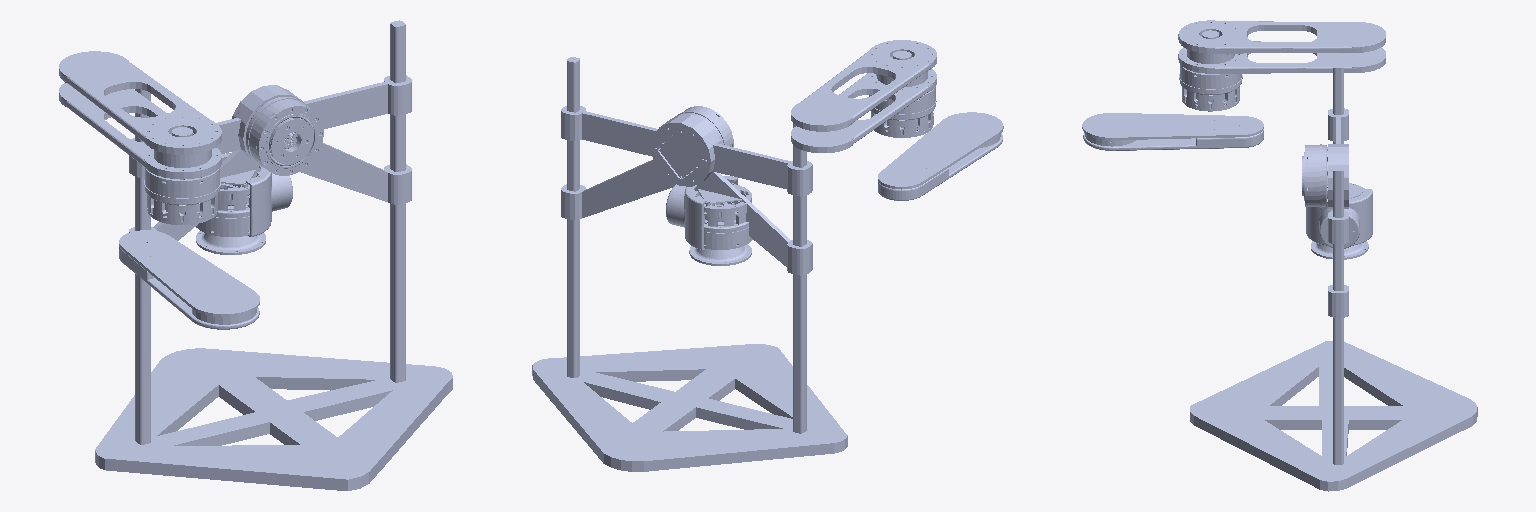
robot.urdf — titanleg:
<?xml version="1.0" encoding="utf-8"?>
<robot
name="titanleg" xmlns:xacro="http://ros.org/wiki/xacro">
<link
  name="world_link"/>
  <link
    name="base_link">
    <inertial>
      <origin
        xyz="0.21336 0.19641 0.47164"
        rpy="0 0 0" />
      <mass
        value="4.5603" />
      <inertia
        ixx="0.18944"
        ixy="-0.0011006"
        ixz="-0.0010776"
        iyy="0.14467"
        iyz="0.0025115"
        izz="0.2416" />
    </inertial>
    <visual>
      <origin
        xyz="0 0 0"
        rpy="0 0 0" />
      <geometry>
        <mesh
          filename="package://my_box_bot_gazebo/meshes/base_link.STL" />
      </geometry>
      <material
        name="">
        <color
          rgba="0.79216 0.81961 0.93333 1" />
      </material>
    </visual>
    <collision>
      <origin
        xyz="0 0 0"
        rpy="0 0 0" />
      <geometry>
        <mesh
          filename="package://my_box_bot_gazebo/meshes/base_link.STL" />
      </geometry>
    </collision>
  </link>
  <joint
    name="dummy_joint"
    type="fixed">
    <parent
      link="world_link" />
    <child
      link="base_link" />
  </joint>
  <link
    name="c_bracket">
    <inertial>
      <origin
        xyz="0.016789 0.07344 -9.2207E-07"
        rpy="0 0 0" />
      <mass
        value="0.77495" />
      <inertia
        ixx="0.0011515"
        ixy="3.3726E-08"
        ixz="1.2441E-09"
        iyy="0.00075346"
        iyz="-1.5562E-07"
        izz="0.00068021" />
    </inertial>
    <visual>
      <origin
        xyz="0 0 0"
        rpy="0 0 0" />
      <geometry>
        <mesh
          filename="package://my_box_bot_gazebo/meshes/c_bracket.STL" />
      </geometry>
      <material
        name="">
        <color
          rgba="0.79216 0.81961 0.93333 1" />
      </material>
    </visual>
    <collision>
      <origin
        xyz="0 0 0"
        rpy="0 0 0" />
      <geometry>
        <mesh
          filename="package://my_box_bot_gazebo/meshes/c_bracket.STL" />
      </geometry>
    </collision>
  </link>
  <joint
    name="cb_joint"
    type="revolute">
    <origin
      xyz="0.21565 -0.53088 0.5435"
      rpy="0 0 3.1416" />
    <parent
      link="base_link" />
    <child
      link="c_bracket" />
    <axis
      xyz="0 -1 0" />
    <limit
      lower="0"
      upper="0"
      effort="0"
      velocity="0" />
  </joint>
  <link
    name="motor_leg">
    <inertial>
      <origin
        xyz="-0.046894 -0.001299 -0.073024"
        rpy="0 0 0" />
      <mass
        value="1.3711" />
      <inertia
        ixx="0.011903"
        ixy="-2.5365E-07"
        ixz="7.3345E-07"
        iyy="0.010585"
        iyz="-0.00014521"
        izz="0.0014903" />
    </inertial>
    <visual>
      <origin
        xyz="0 0 0"
        rpy="0 0 0" />
      <geometry>
        <mesh
          filename="package://my_box_bot_gazebo/meshes/motor_leg.STL" />
      </geometry>
      <material
        name="">
        <color
          rgba="0.79216 0.81961 0.93333 1" />
      </material>
    </visual>
    <collision>
      <origin
        xyz="0 0 0"
        rpy="0 0 0" />
      <geometry>
        <mesh
          filename="package://my_box_bot_gazebo/meshes/motor_leg.STL" />
      </geometry>
    </collision>
  </link>
  <joint
    name="motor_leg_joint"
    type="revolute">
    <origin
      xyz="0.21211 0.089 0"
      rpy="0 0 0" />
    <parent
      link="c_bracket" />
    <child
      link="motor_leg" />
    <axis
      xyz="1 0 0" />
    <limit
      lower="0"
      upper="0"
      effort="0"
      velocity="0" />
  </joint>
  <link
    name="lowerleg">
    <inertial>
      <origin
        xyz="-0.014387 0.1116 -0.0062309"
        rpy="0 0 0" />
      <mass
        value="0.66281" />
      <inertia
        ixx="0.0057605"
        ixy="-0.00018335"
        ixz="1.0255E-05"
        iyy="0.00049859"
        iyz="0.00027027"
        izz="0.0053127" />
    </inertial>
    <visual>
      <origin
        xyz="0 0 0"
        rpy="0 0 0" />
      <geometry>
        <mesh
          filename="package://my_box_bot_gazebo/meshes/lowerleg.STL" />
      </geometry>
      <material
        name="">
        <color
          rgba="0.79216 0.81961 0.93333 1" />
      </material>
    </visual>
    <collision>
      <origin
        xyz="0 0 0"
        rpy="0 0 0" />
      <geometry>
        <mesh
          filename="package://my_box_bot_gazebo/meshes/lowerleg.STL" />
      </geometry>
    </collision>
  </link>
  <joint
    name="lower_joint"
    type="revolute">
    <origin
      xyz="-0.012 -0.0043465 -0.26991"
      rpy="0 0 0" />
    <parent
      link="motor_leg" />
    <child
      link="lowerleg" />
    <axis
      xyz="-1 0 0" />
    <limit
      lower="0"
      upper="0"
      effort="0"
      velocity="0" />
  </joint>
</robot>

--- Facts derived from the render (not from the file) ---
Views: 3 orthographic renders of the robot side by side, from view 1: azimuth 30°, elevation 25°; view 2: azimuth 150°, elevation 25°; view 3: azimuth 270°, elevation 25°.
Model titanleg with 5 links and 4 joints (3 revolute, 1 fixed), rooted at world_link, posed all joints at 0.
Visible links, largest first — view 1: base_link, motor_leg, lowerleg, c_bracket; view 2: base_link, motor_leg, lowerleg, c_bracket; view 3: base_link, motor_leg, lowerleg, c_bracket.
Boxes of the visible links, left/top/right/bottom form: base_link: left=95, top=20, right=452, bottom=490; motor_leg: left=59, top=51, right=221, bottom=224; lowerleg: left=119, top=230, right=259, bottom=329; c_bracket: left=196, top=153, right=292, bottom=254; base_link: left=532, top=57, right=847, bottom=471; motor_leg: left=791, top=40, right=936, bottom=152; lowerleg: left=878, top=112, right=1003, bottom=200; c_bracket: left=666, top=176, right=752, bottom=265; base_link: left=1190, top=64, right=1477, bottom=491; motor_leg: left=1178, top=20, right=1385, bottom=111; lowerleg: left=1082, top=113, right=1263, bottom=150; c_bracket: left=1306, top=183, right=1372, bottom=259.
Bounding box of the posed robot: 0.688 × 0.7315 × 0.6544 m (x, y, z).
Meshes: 4 distinct files referenced, 4 mesh visuals loaded (4 binary STL).